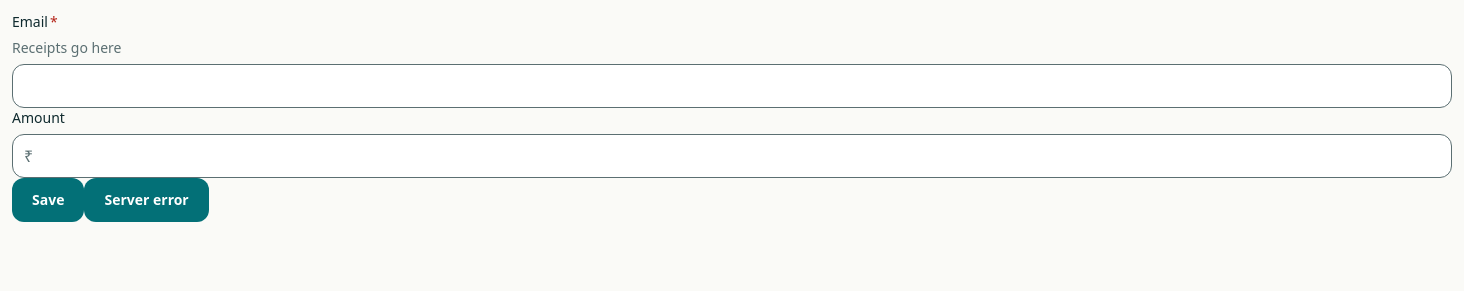
FormField with React Hook Form and zod › shows an inline error per field on submit, announces it, and does not submit
This screenshot has width=1464, height=291.
Click the button "Save": [48, 200] box [12,178,84,222]
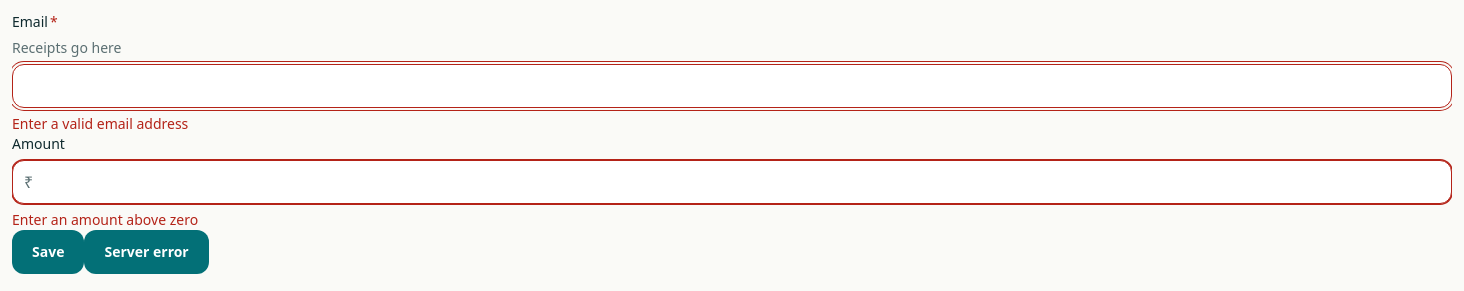
Result: the messages read "Enter a valid email address", "Enter an amount above zero", in this order at [12,114,188,133]; [12,210,198,229]
